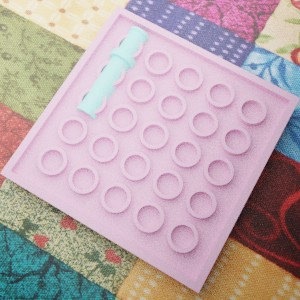lego: (0, 5, 299, 293), (76, 26, 148, 121)
